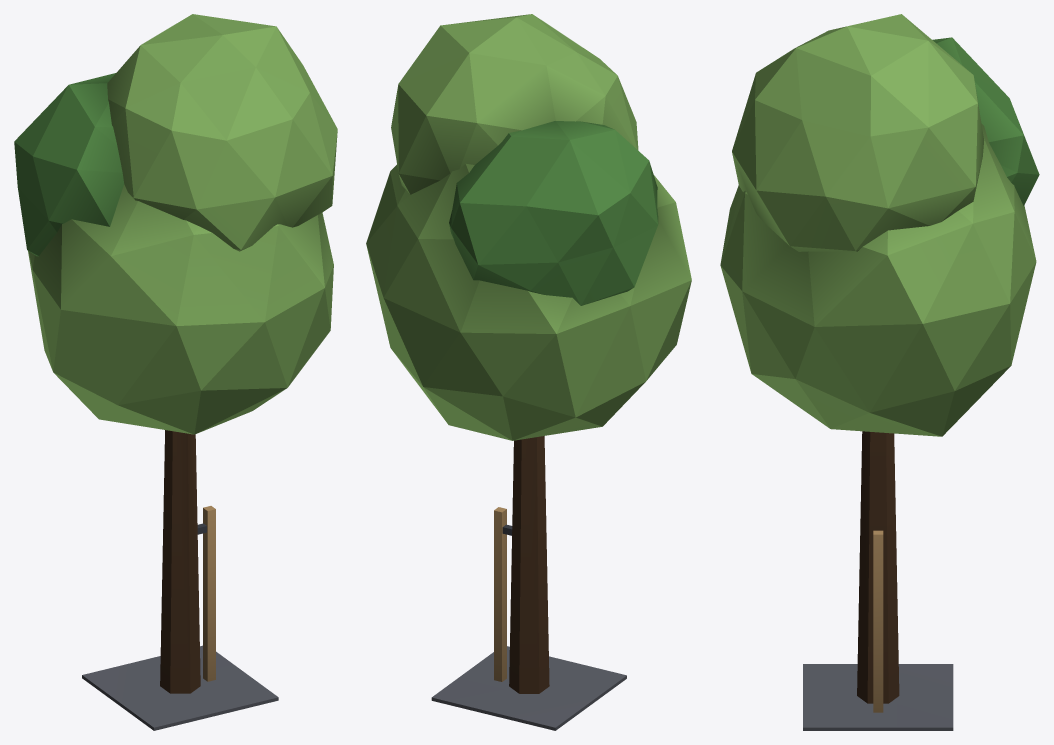
Rendered from tree_street.glb.
3 views of the same model, side by side, from view 1: azimuth 30°, elevation 25°; view 2: azimuth 150°, elevation 25°; view 3: azimuth 270°, elevation 25° (orthographic). The views are drawn at different scales.
Visible parts, largest first — view 1: Tree; view 2: Tree; view 3: Tree.
Boxes of the visible parts, x1,y1,x2,y2 form: Tree: (14,14,337,730); Tree: (366,14,691,730); Tree: (720,14,1039,730).
Bounding box in the file's own units: 2.74 × 6.06 × 2.55.
1 material, 1 textured.
